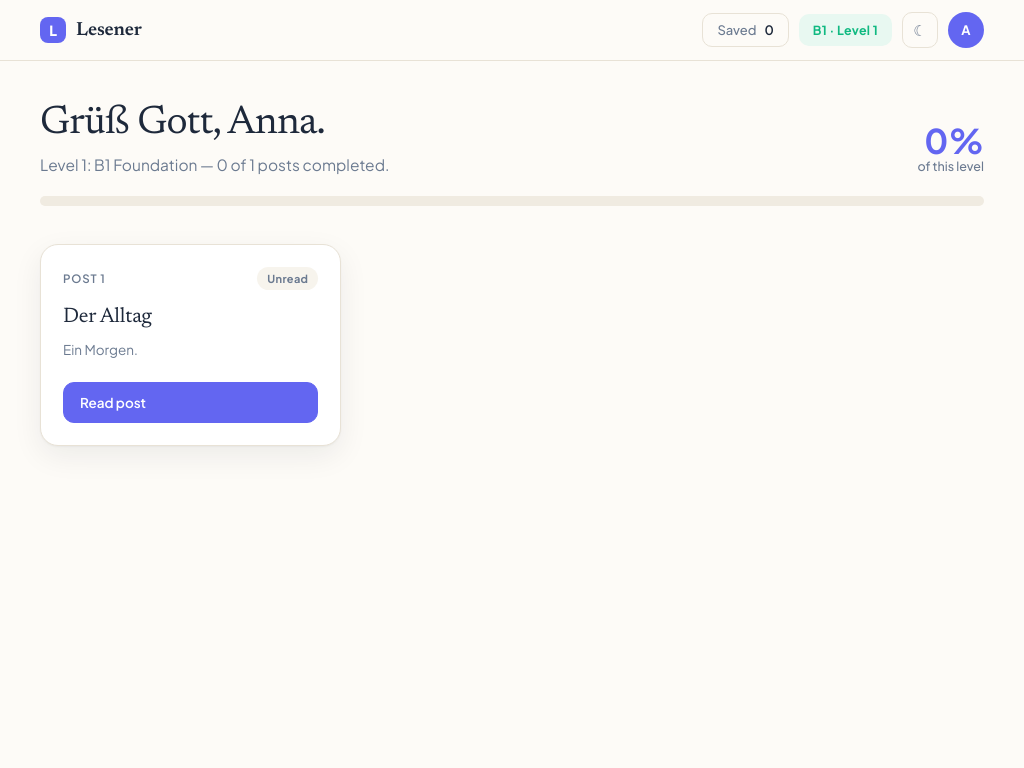
Test: deleting your account › keeps the modal open and the account intact when the password is wrong
Click the button "A".
click(966, 30)  # box [948,12,984,48]
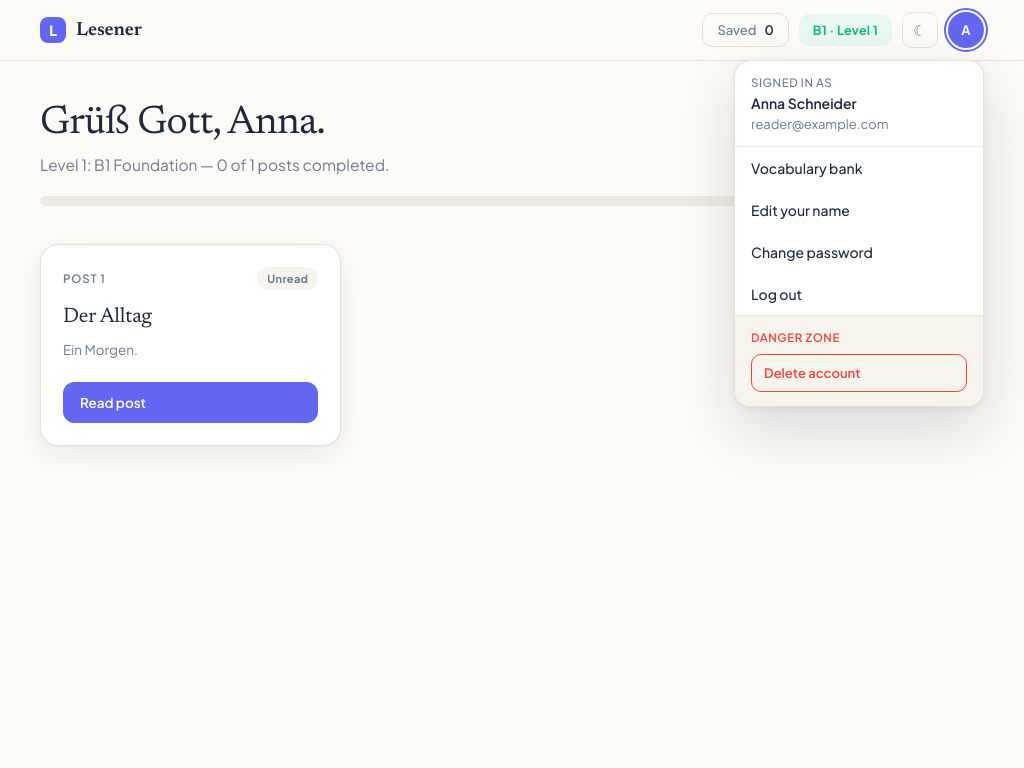
Click the button "Delete account".
click(859, 373)  # box [751,354,967,392]
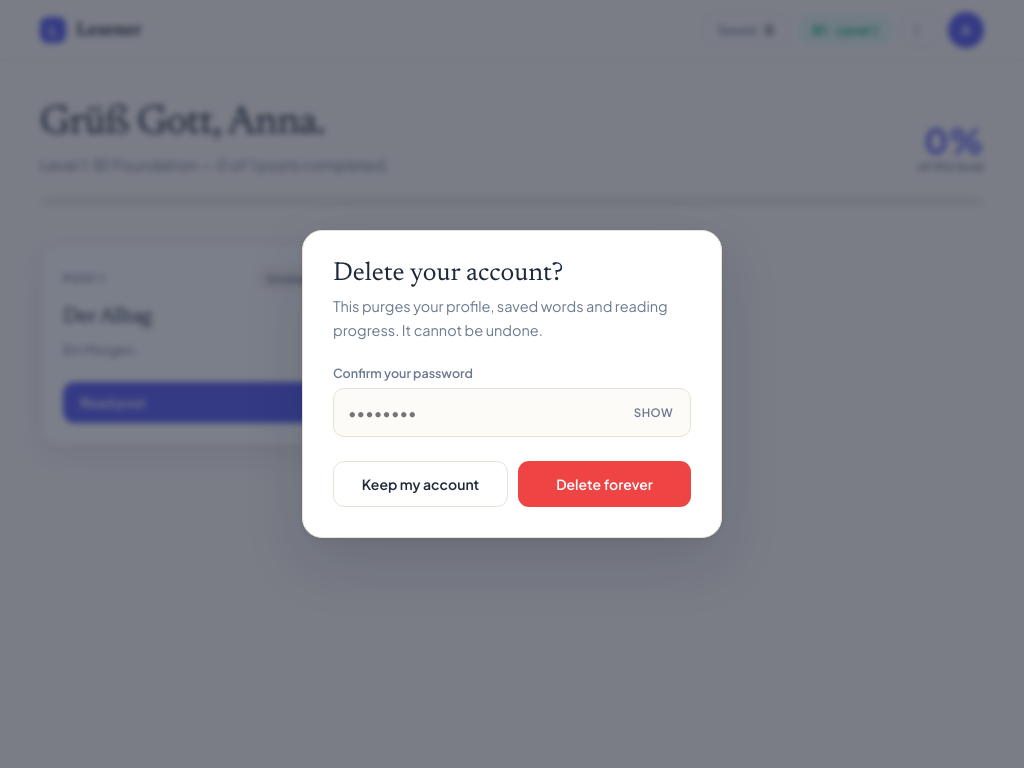
Type "nope" into the password field labelled "Confirm your password".
click(512, 412); type("nope")  # box [333,388,691,437]
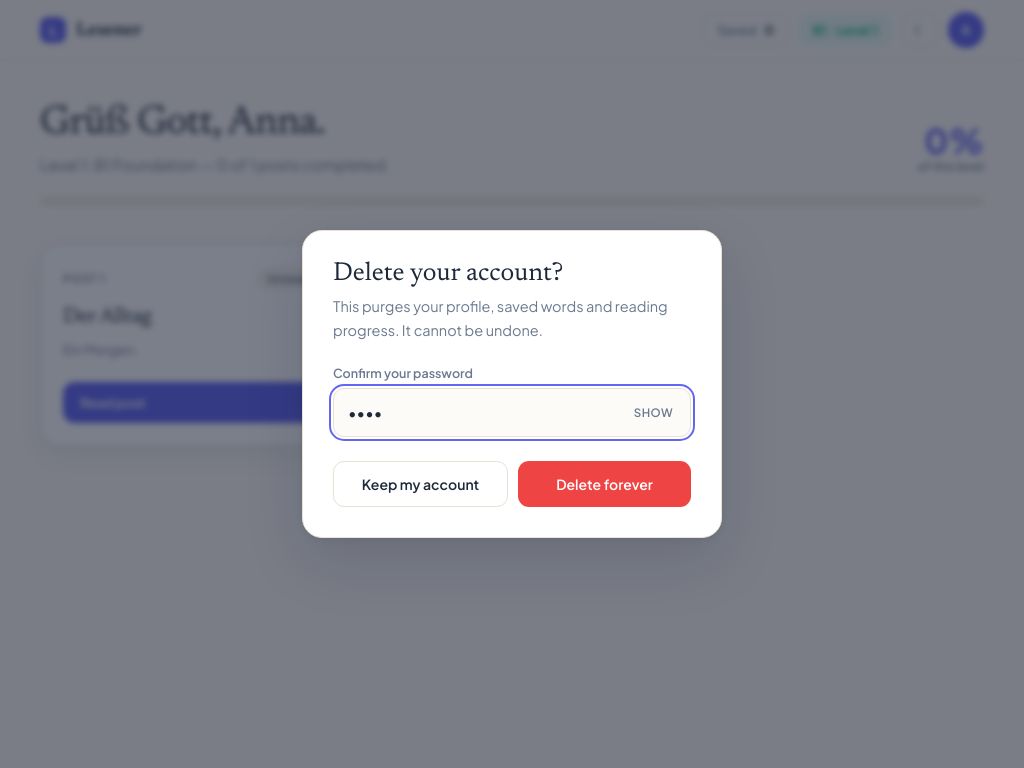
Click the button "Delete forever".
click(604, 484)  # box [518,461,691,507]
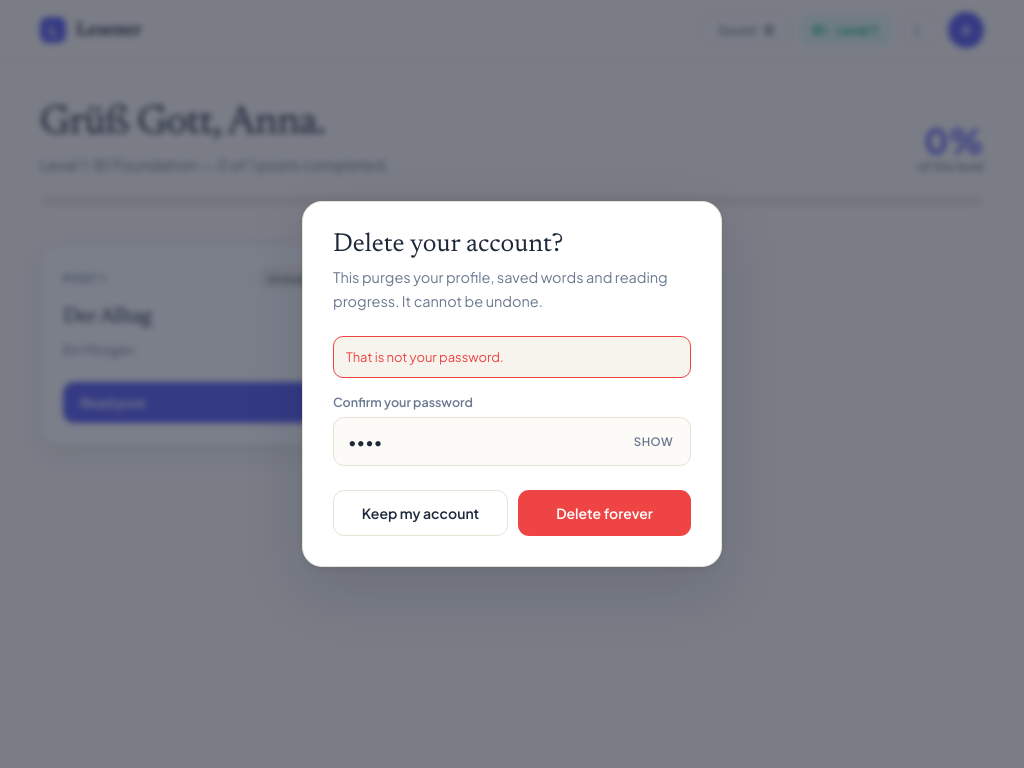
Expected: the button "Delete forever" is shown, [518,490,691,536]
Expected: the message reads "That is not your password.", [346,349,504,365]
